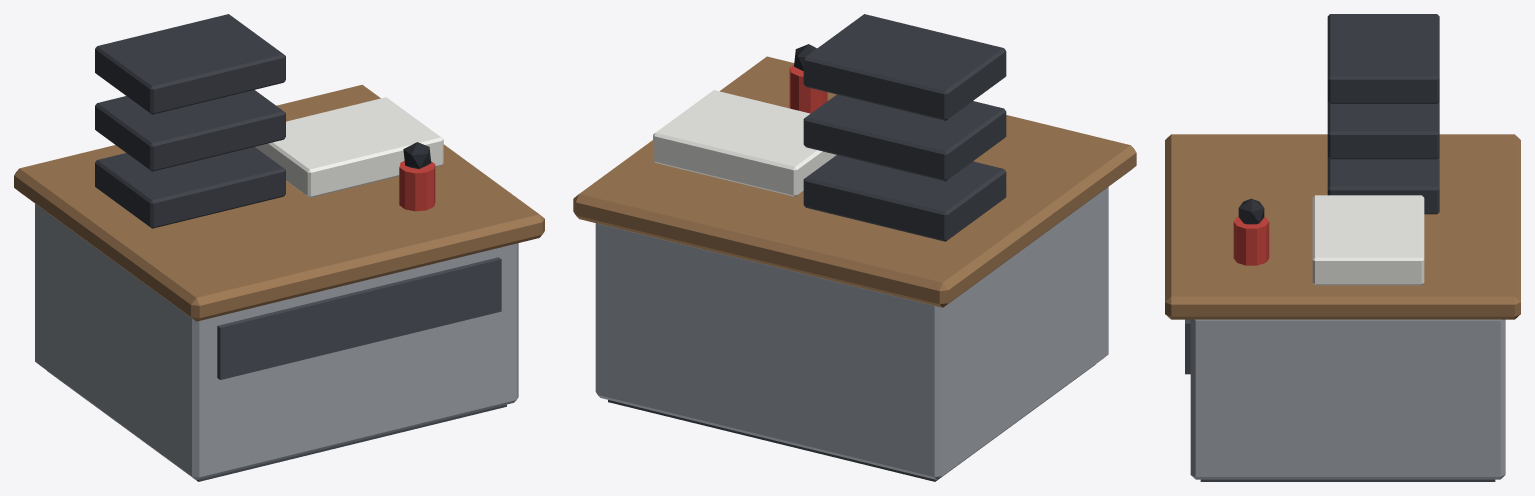
The model's file is delegation_2.glb.
The picture shows the model from 3 angles, left to right: view 1: azimuth 30°, elevation 25°; view 2: azimuth 150°, elevation 25°; view 3: azimuth 270°, elevation 25°; orthographic projection. The views are drawn at different scales.
Parts seen in each view (by area): view 1: delegation_2_mesh_Desk, delegation_2_mesh; view 2: delegation_2_mesh_Desk, delegation_2_mesh; view 3: delegation_2_mesh_Desk, delegation_2_mesh.
Boxes of the visible parts, x1,y1,x2,y2 form: delegation_2_mesh_Desk: (14, 84, 544, 481); delegation_2_mesh: (95, 14, 443, 228); delegation_2_mesh_Desk: (573, 56, 1136, 481); delegation_2_mesh: (653, 14, 1006, 241); delegation_2_mesh_Desk: (1165, 134, 1520, 481); delegation_2_mesh: (1233, 14, 1439, 285).
Bounding box in the file's own units: 0.78 × 0.72 × 0.7.
